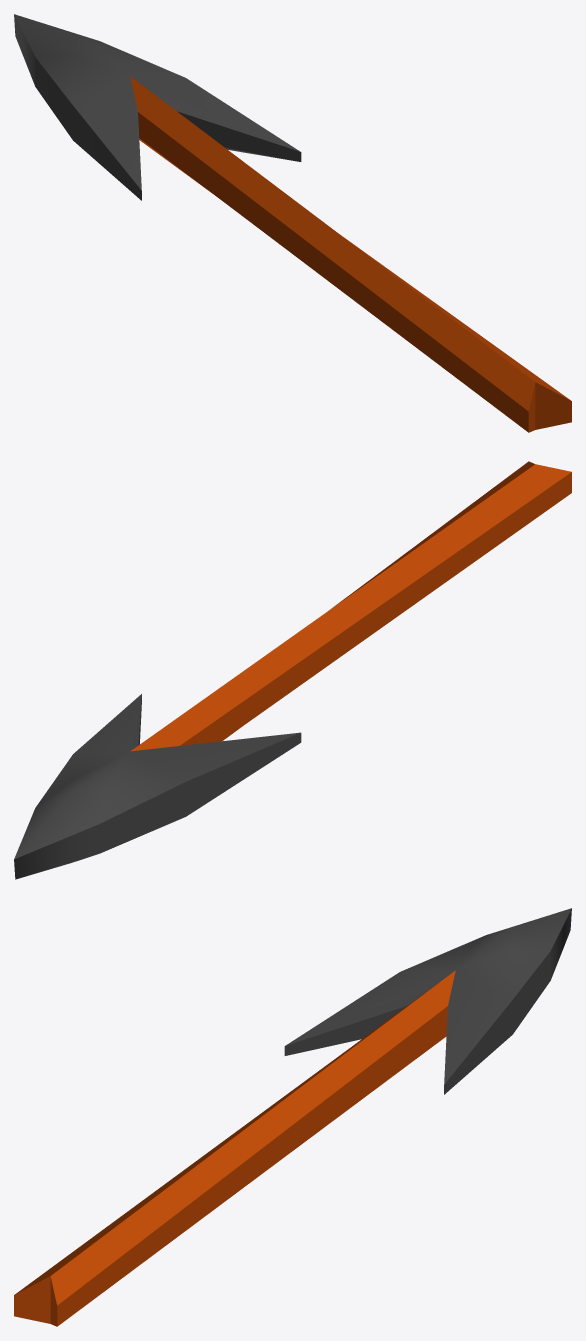
File: VaristorBullet.fbx
3 views of the same model, one above another, from view 1: azimuth 30°, elevation 25°; view 2: azimuth 150°, elevation 25°; view 3: azimuth 330°, elevation 25° (orthographic).
Visible parts, largest first — view 1: pCube1; view 2: pCube1; view 3: pCube1.
Boxes of the visible parts, <box> form: pCube1: <box>14,14,571,432</box>; pCube1: <box>14,461,571,879</box>; pCube1: <box>14,908,571,1326</box>.
Size of the model in its own units: 8.46 by 3.59 by 49.33.
